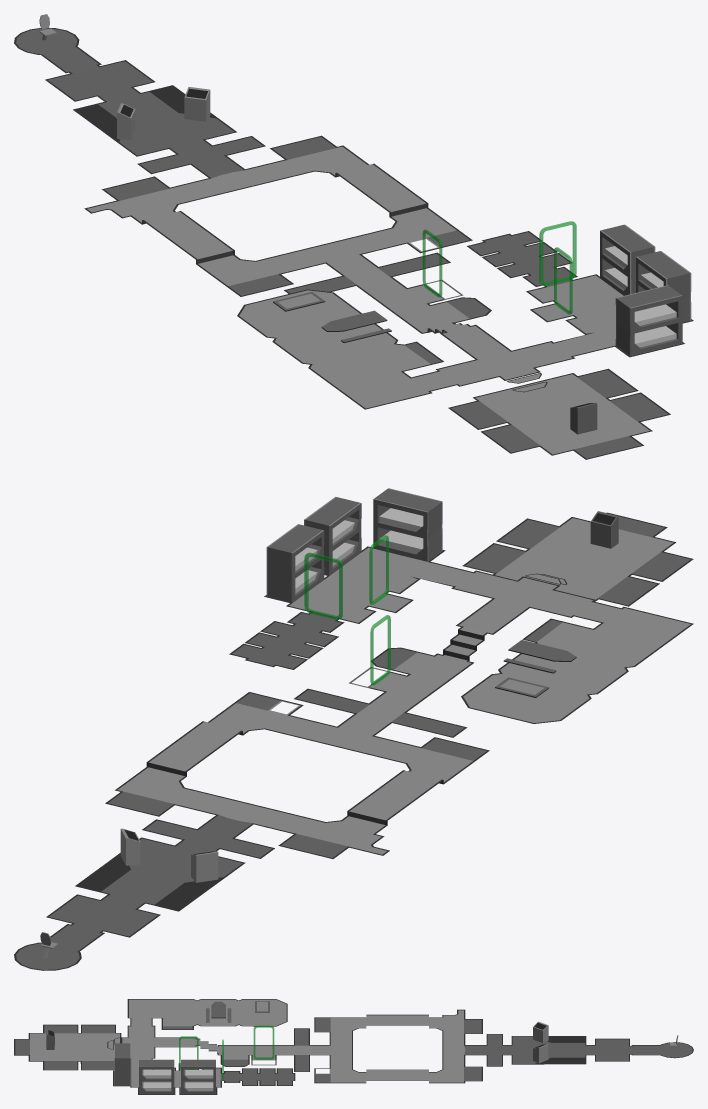
Rendered from JMBN_Perseus_Deck_1.glb.
The picture shows the model from 3 angles, top to bottom: view 1: azimuth 30°, elevation 25°; view 2: azimuth 150°, elevation 25°; view 3: azimuth 270°, elevation 25°; orthographic projection. The views are drawn at different scales.
Parts seen in each view (by area): view 1: Plane104, Plane104_3, Plane104_2, Cube245, Cube247, Cube246, Cube245_1, Cube249_1, door209, Plane128, Plane107; view 2: Plane104, Plane104_3, Plane104_2, Cube247, Cube245, Cube246, Cube245_1, Cube249_1, Plane127, Plane104_1, Plane128, door209; view 3: Plane104, Plane104_3, Plane104_2, Cube246, Cube247, Cube245, Cube247_1, Cube246_1, Cube249_1, door211, Plane107, Plane127.
Boxes of the visible parts, x1,y1,x2,y2 form: Plane104: (87,146,649,454); Plane104_3: (16,28,667,458); Plane104_2: (14,28,693,459); Cube245: (616,285,682,355); Cube247: (600,225,653,295); Cube246: (636,251,689,322); Cube245_1: (634,304,676,347); Cube249_1: (322,310,391,341); door209: (539,221,576,285); Plane128: (570,402,597,434); Plane107: (184,87,210,121); Plane104: (118,518,690,854); Plane104_3: (16,516,690,969); Plane104_2: (14,512,693,970); Cube247: (268,524,324,602); Cube245: (373,489,441,561); Cube246: (305,497,361,574); Cube245_1: (379,508,423,553); Cube249_1: (504,640,576,672); Plane127: (191,851,218,882); Plane104_1: (148,630,482,824); Plane128: (590,511,618,548); door209: (304,552,342,619); Plane104: (30,999,465,1093); Plane104_3: (15,1017,692,1085); Plane104_2: (14,999,693,1094); Cube246: (139,1060,174,1094); Cube247: (181,1060,215,1094); Cube245: (115,1043,130,1085); Cube247_1: (185,1070,213,1090); Cube246_1: (143,1070,171,1090); Cube249_1: (206,1001,231,1021); door211: (253,1025,274,1059); Plane107: (533,1044,548,1063); Plane127: (533,1021,548,1042).
Size of the model in its own units: 1.25 by 0.2537 by 3.76.
